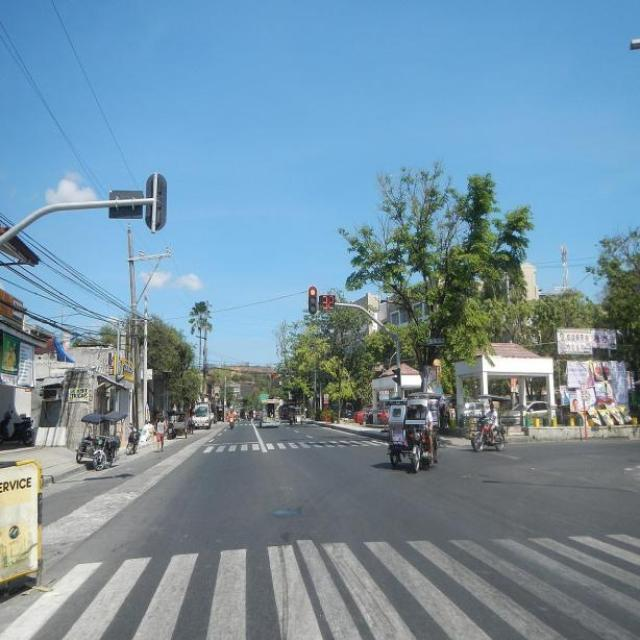pedestrian lane: (0, 536, 640, 640), (201, 440, 388, 454)
